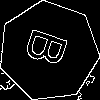B: (23, 26, 77, 73)
